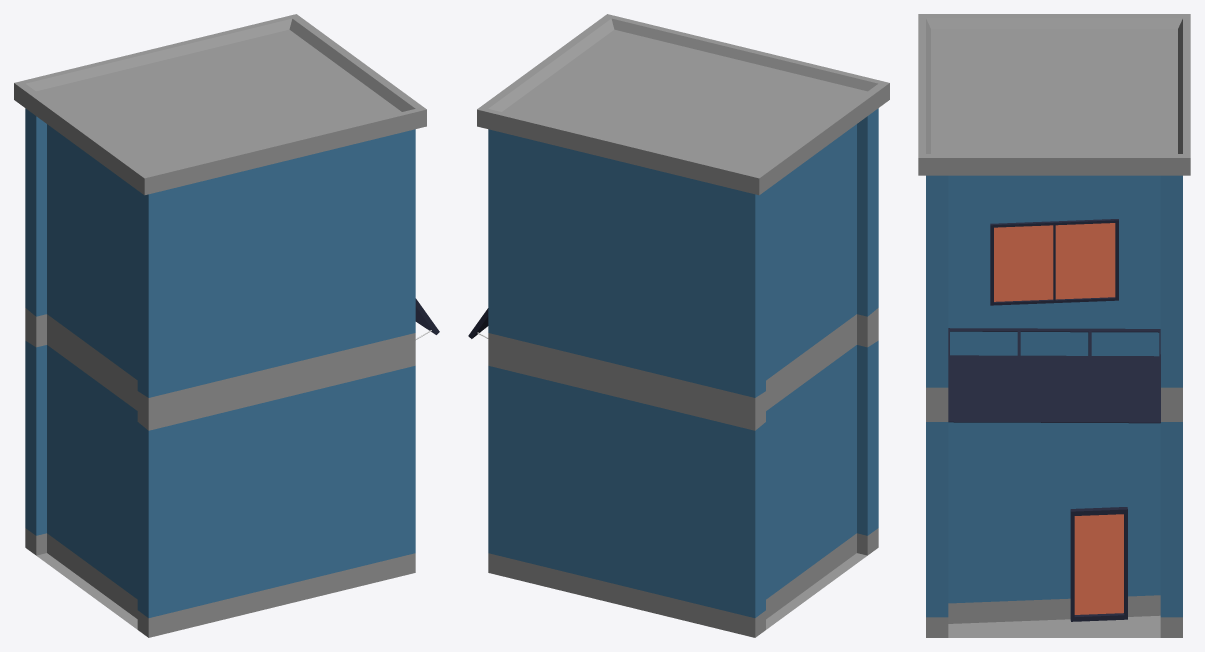
File: Building_B.fbx
The picture shows the model from 3 angles, left to right: view 1: azimuth 30°, elevation 25°; view 2: azimuth 150°, elevation 25°; view 3: azimuth 270°, elevation 25°; orthographic projection. The views are drawn at different scales.
Visible parts, largest first — view 1: Coffee Shop; view 2: Coffee Shop; view 3: Coffee Shop, Plane.001, Plane.003, Plane.002.
Part boxes in pixels (bbox=[...]): Coffee Shop: bbox=[14, 14, 426, 637]; Coffee Shop: bbox=[477, 14, 889, 637]; Coffee Shop: bbox=[918, 14, 1190, 637]; Plane.001: bbox=[948, 328, 1160, 423]; Plane.003: bbox=[990, 219, 1118, 305]; Plane.002: bbox=[1070, 507, 1127, 621].
Size of the model in its own units: 580 by 830 by 423.
